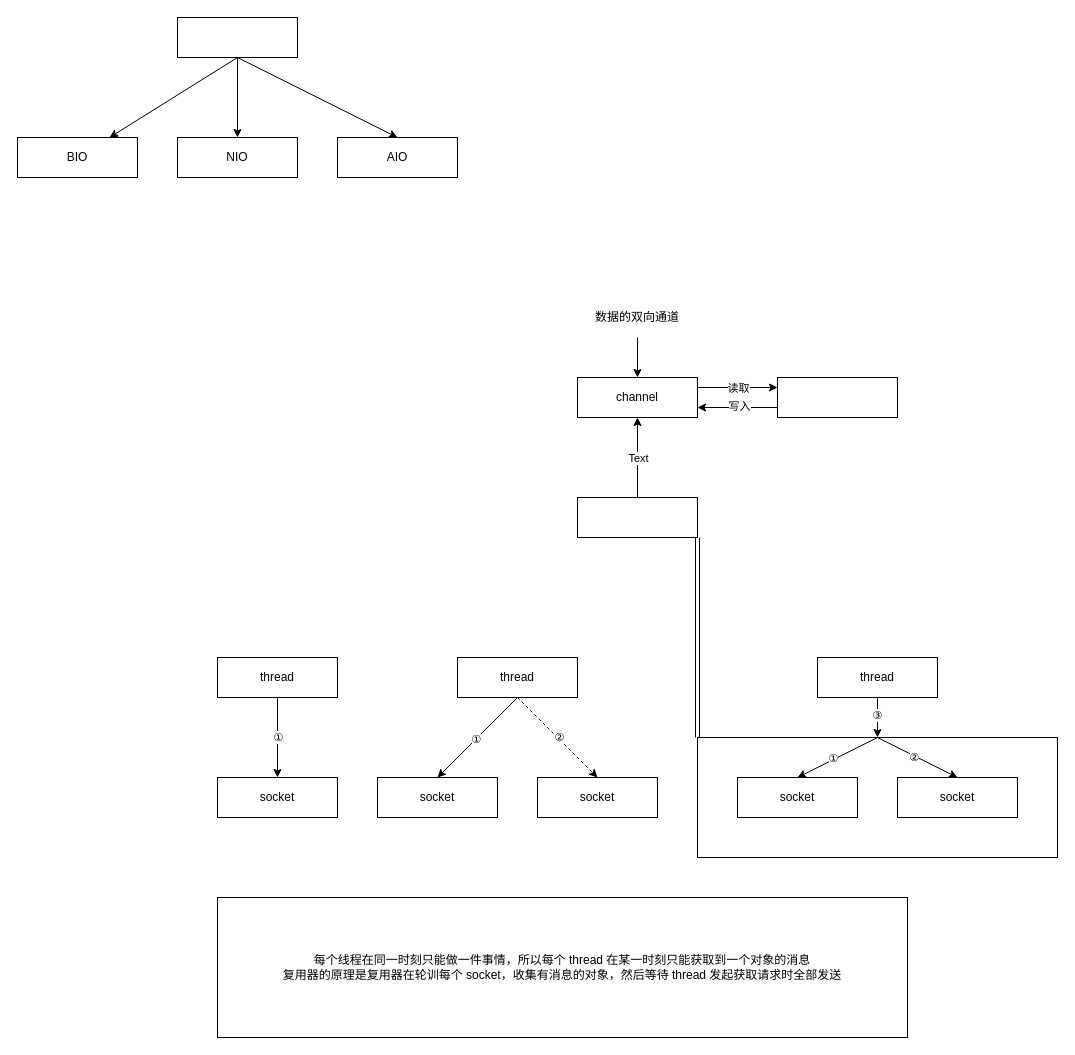
This 1075x1055 diagram has some shape labels left out. Each missing label, with the centre of its shape:
"buffer" goes at (837,397).
"IO" goes at (237,37).
"复用器" goes at (637,517).
